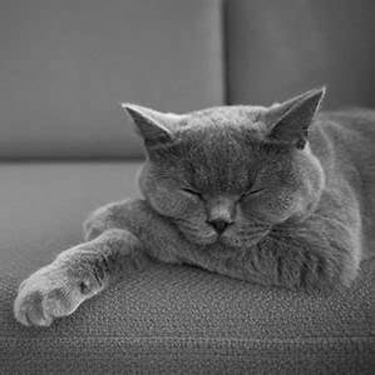cat: (14, 82, 368, 333)
